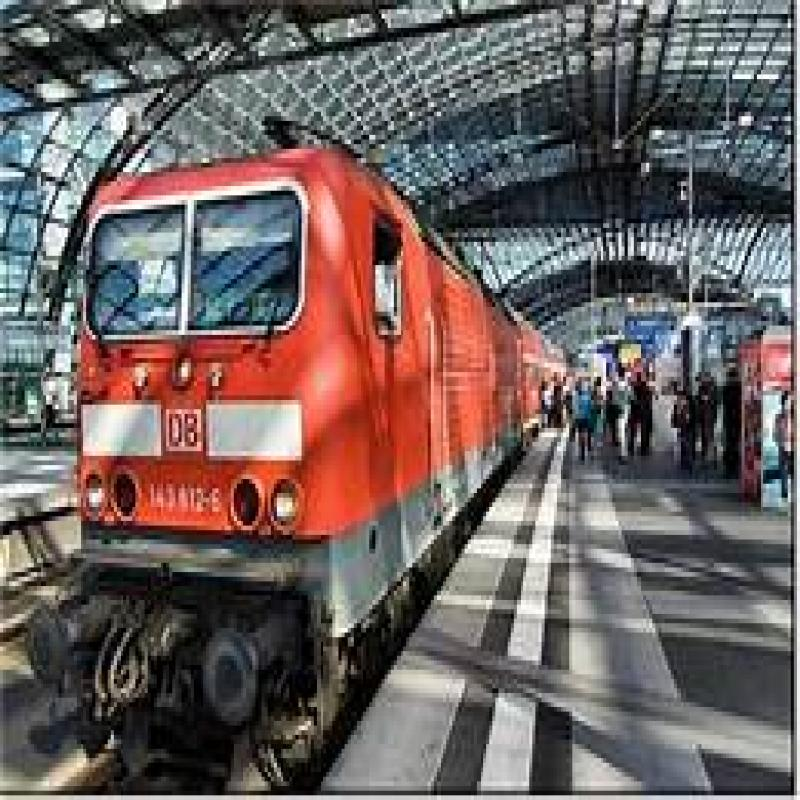train: (44, 136, 472, 708)
